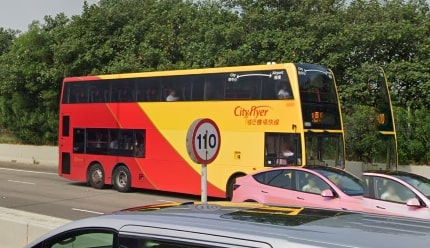Speed Limit: (186, 114, 224, 167)
